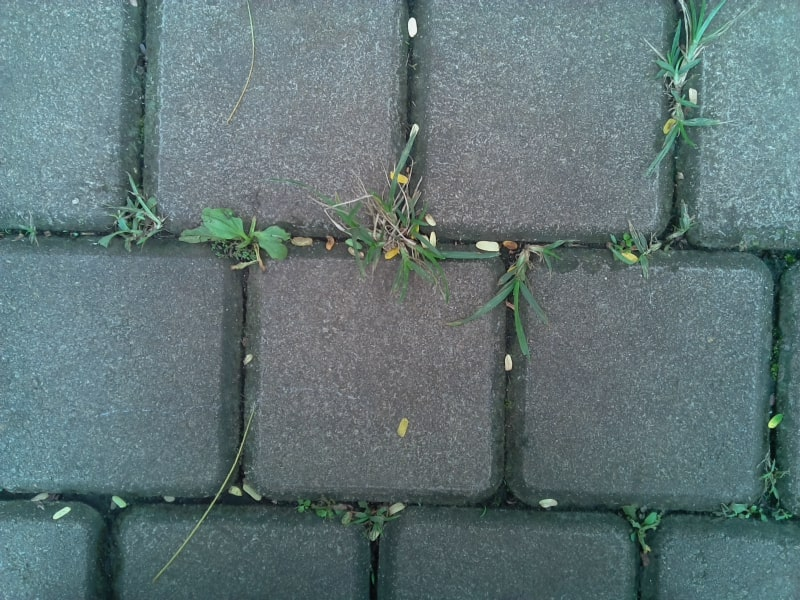Weed: (322, 130, 444, 286), (478, 239, 571, 341), (181, 204, 294, 269), (660, 2, 721, 91), (95, 180, 166, 252), (293, 496, 396, 542), (660, 97, 698, 166), (620, 499, 664, 557), (610, 228, 655, 273), (758, 450, 786, 505), (721, 498, 765, 522), (676, 201, 697, 241), (15, 215, 43, 244)
